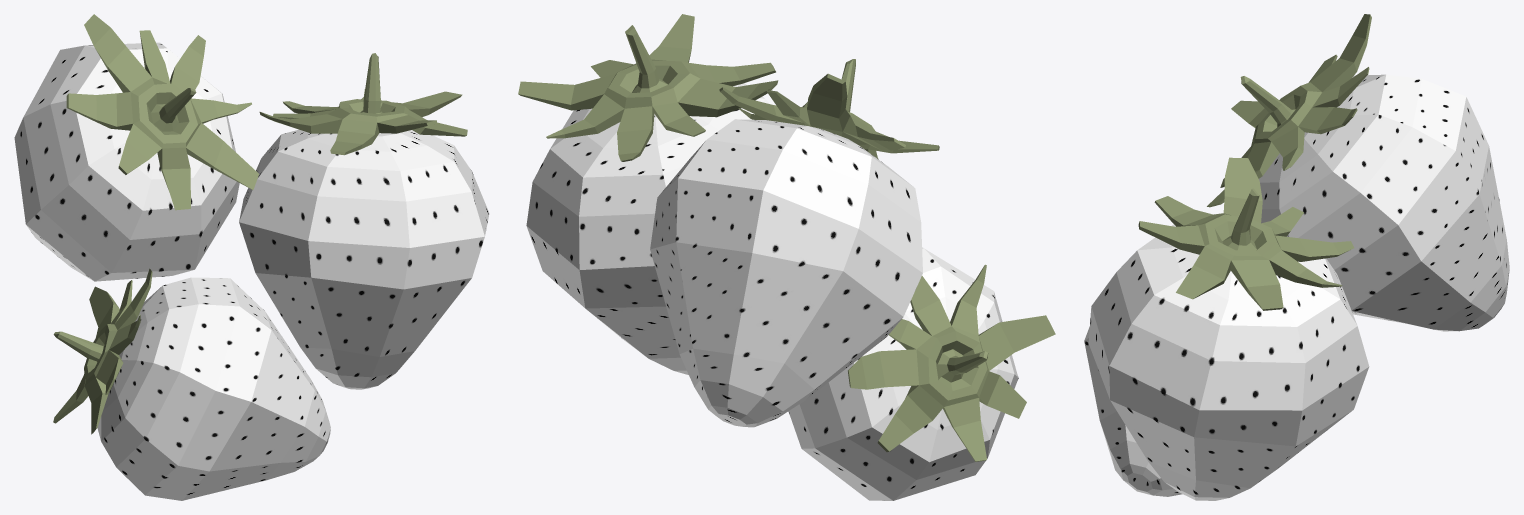
Rendered from wholeStrawberry.fbx.
The picture shows the model from 3 angles, left to right: view 1: azimuth 30°, elevation 25°; view 2: azimuth 150°, elevation 25°; view 3: azimuth 270°, elevation 25°; orthographic projection. The views are drawn at different scales.
Parts seen in each view (by area): view 1: wholeStrawberries; view 2: wholeStrawberries; view 3: wholeStrawberries.
Part boxes in pixels (x1,y1,x2,y2): wholeStrawberries: (14, 14, 489, 500); wholeStrawberries: (518, 14, 1055, 500); wholeStrawberries: (1084, 14, 1509, 500).
Bounding box in the file's own units: 4.37 × 4.25 × 3.67.
2 materials, 1 textured.
